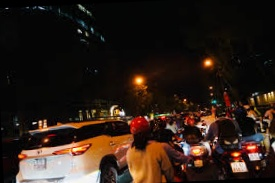Bien-so: (230, 162, 248, 175), (30, 155, 44, 168), (248, 155, 261, 163), (193, 159, 201, 167)
